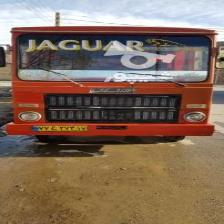plate: (29, 124, 85, 131)
